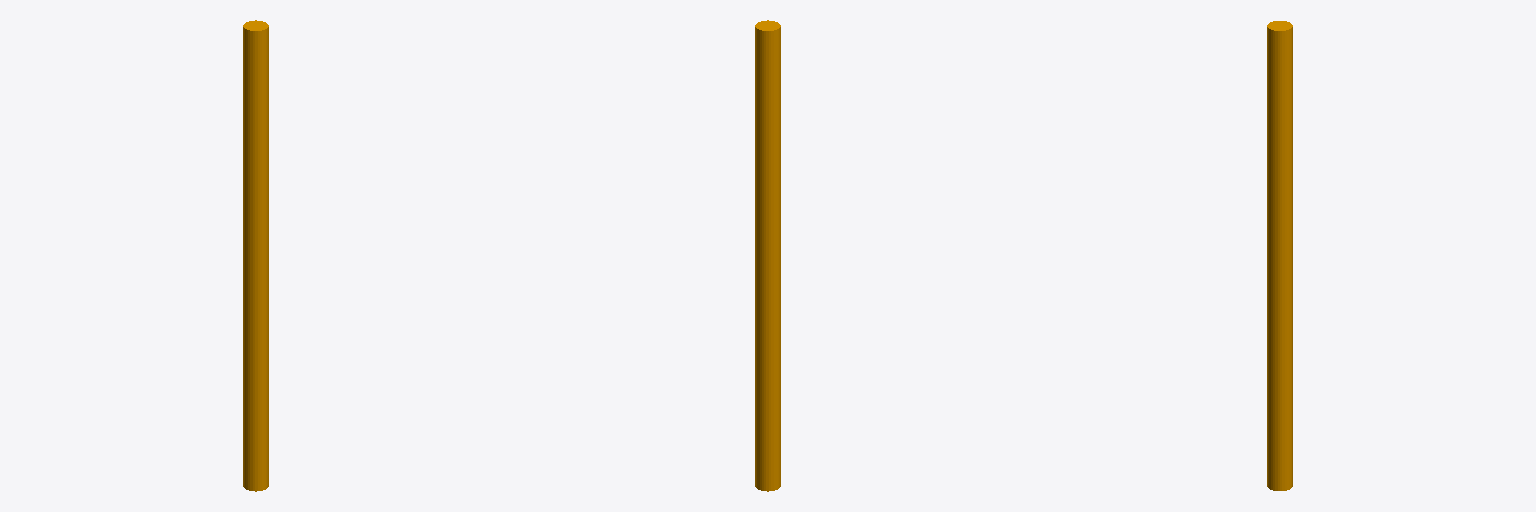
robot.urdf — pillar:
<?xml version='1.0' encoding='UTF-8'?>
<robot name="pillar">
    <link name="base_link">
        <inertial>
          <origin xyz="0.0 0.0 0.0" rpy="0.0 -0.0 0.0"/>
          <mass value="1.0"/>
          <inertia ixx="1.0" ixy="0.0" ixz="0.0" iyy="1.0" iyz="0.0" izz="1.0"/>
        </inertial>
        <visual name="base_link_visual">
            <origin xyz="0 0 0" rpy="0 0 0"/>
            <geometry>
                <cylinder radius="0.2" length="8"/>
            </geometry>
        </visual>
        <collision name="base_link_collision">
            <origin xyz="0 0 0" rpy="0 0 0"/>
            <geometry>
                <cylinder radius="0.2" length="8"/>
            </geometry>
        </collision>
    </link>
</robot>

--- What the picture shows (computed from the rendered views, not written in the file) ---
3 views of the same robot in one strip: view 1: azimuth 30°, elevation 25°; view 2: azimuth 150°, elevation 25°; view 3: azimuth 270°, elevation 25° (orthographic).
Model pillar with 1 links and 0 joints (none), rooted at base_link, posed all joints at 0.
Visible links, largest first — view 1: base_link; view 2: base_link; view 3: base_link.
Boxes of the visible links, x1,y1,x2,y2 form: base_link: [243, 20, 268, 491]; base_link: [755, 20, 780, 491]; base_link: [1267, 21, 1292, 490].
Size in the robot's own frame: 0.4 by 0.4 by 8 metres.
Geometry: primitives only (box / cylinder / sphere), no mesh files.